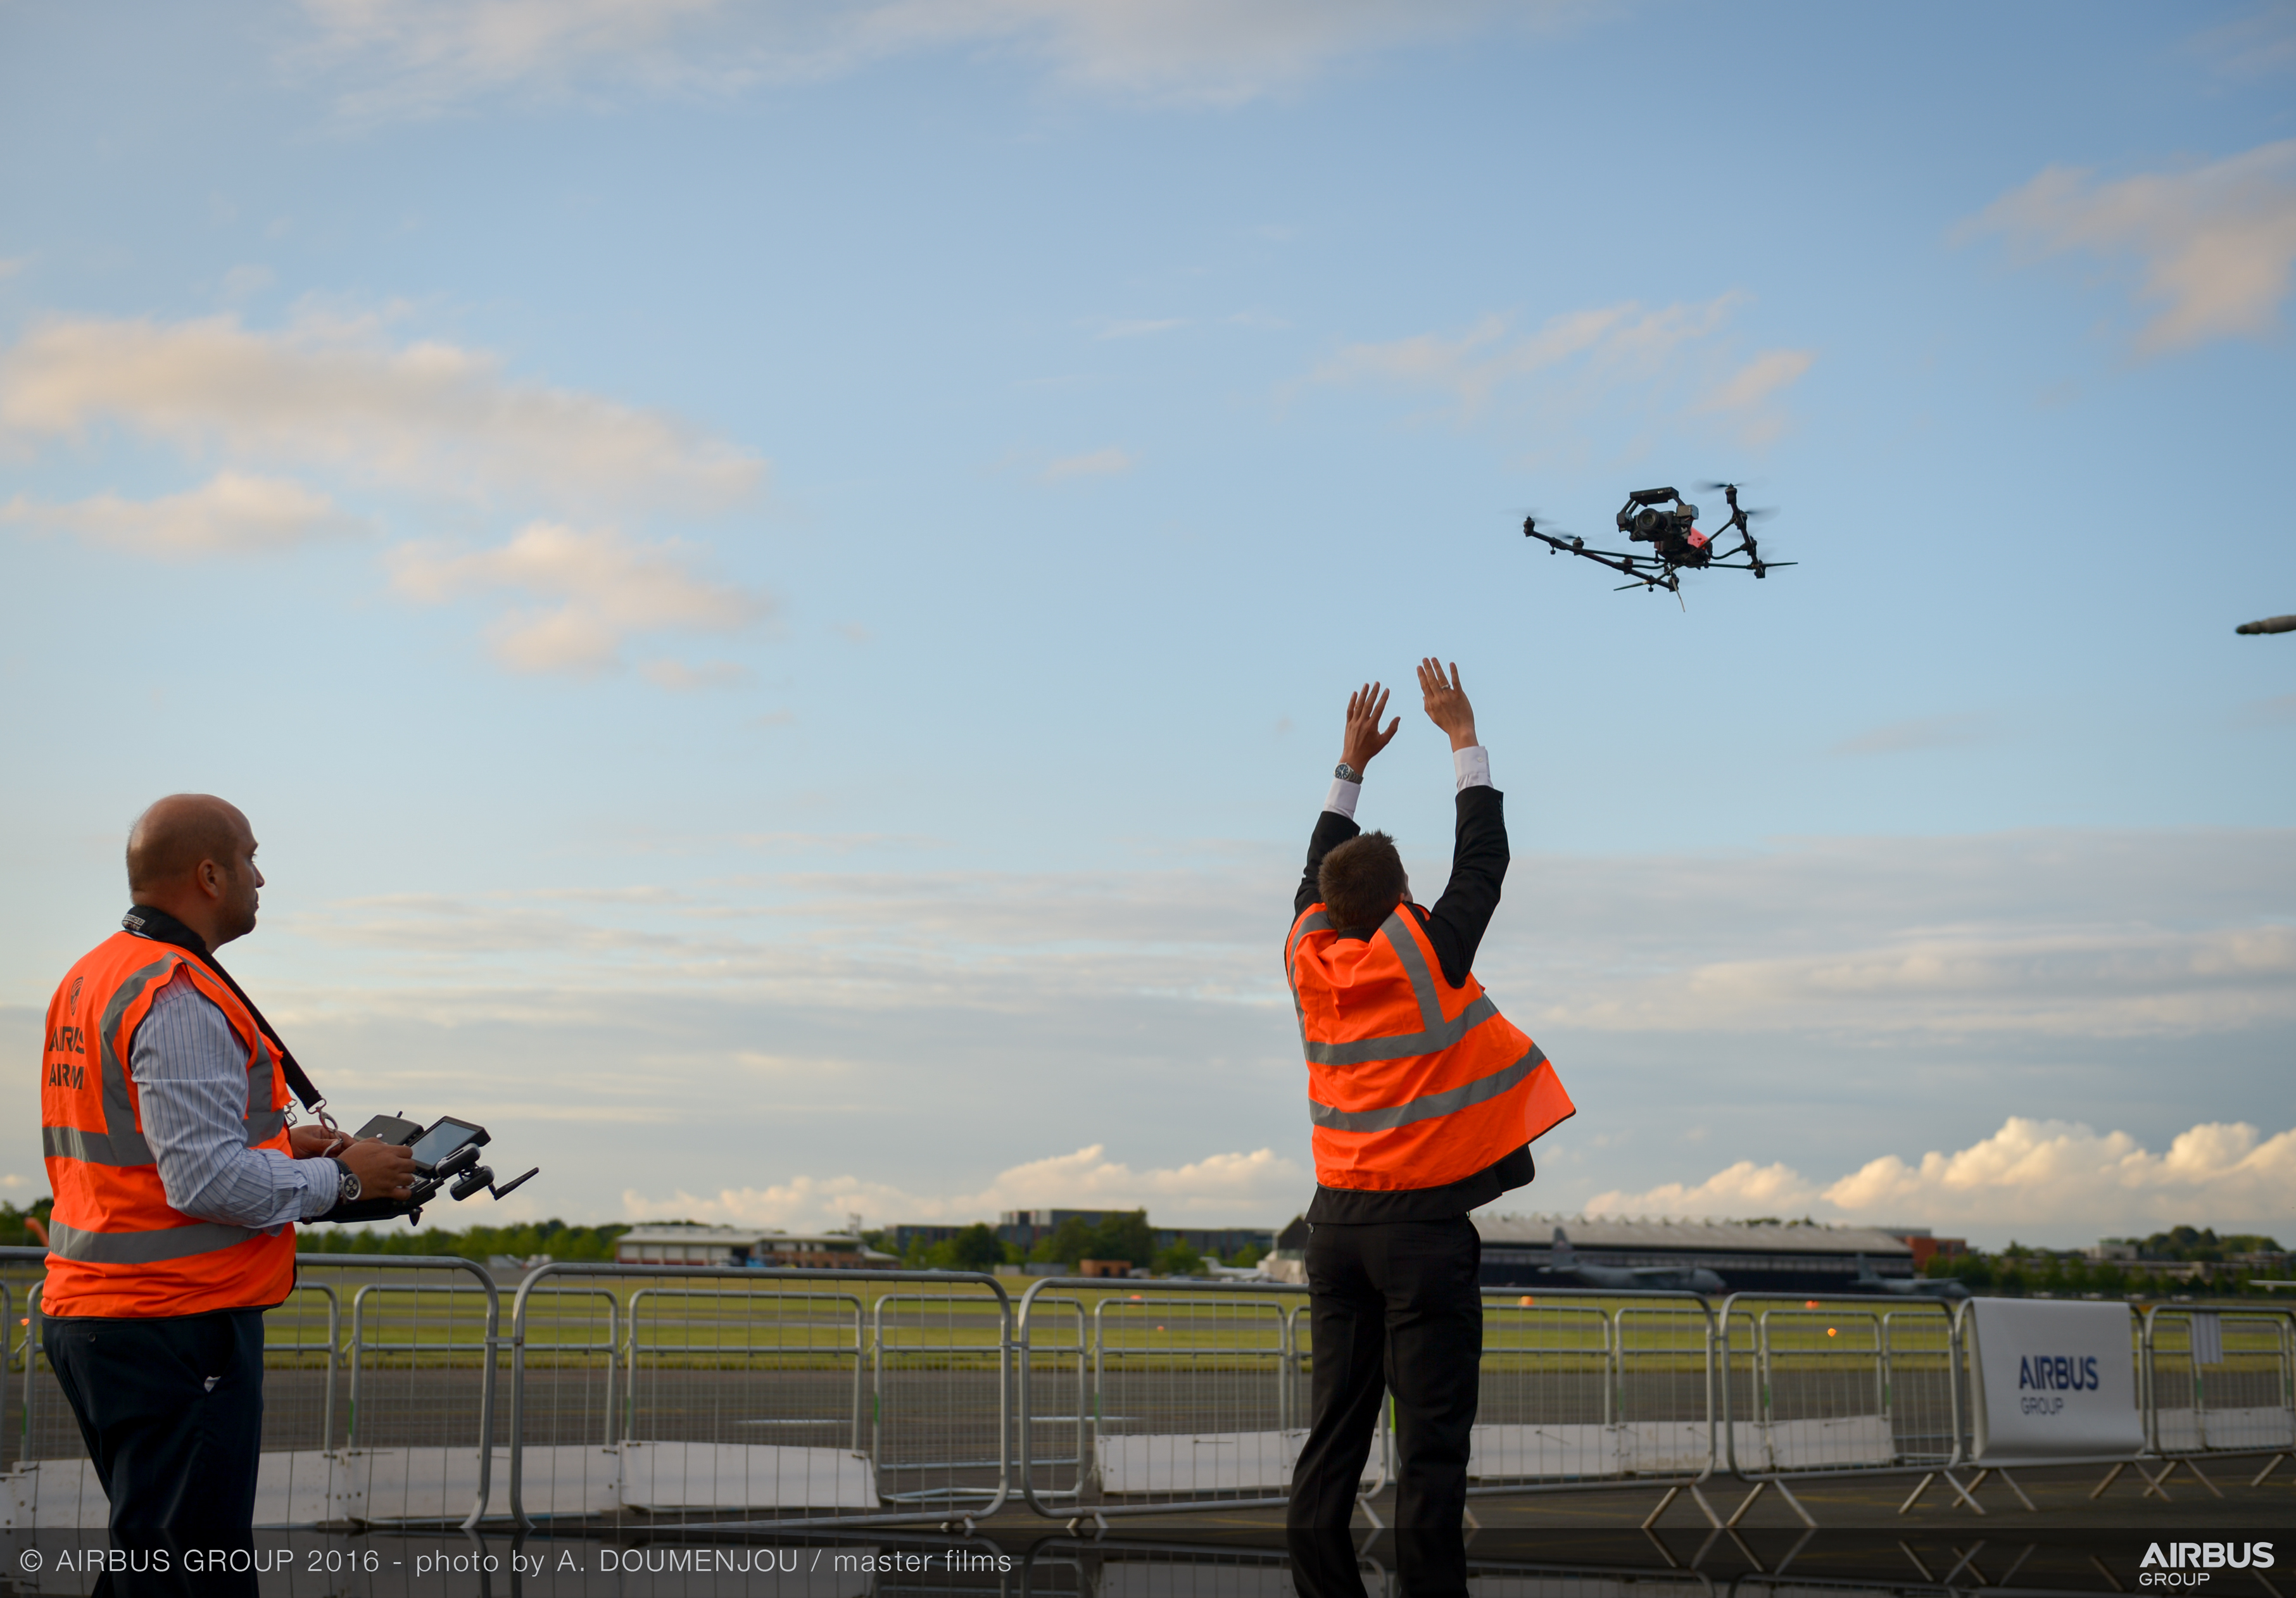drone: (1494, 467, 1803, 619)
person: (27, 786, 523, 1598), (1285, 655, 1544, 1598)
